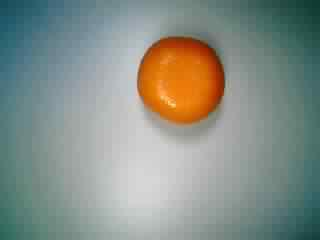orange: (132, 30, 227, 128)
